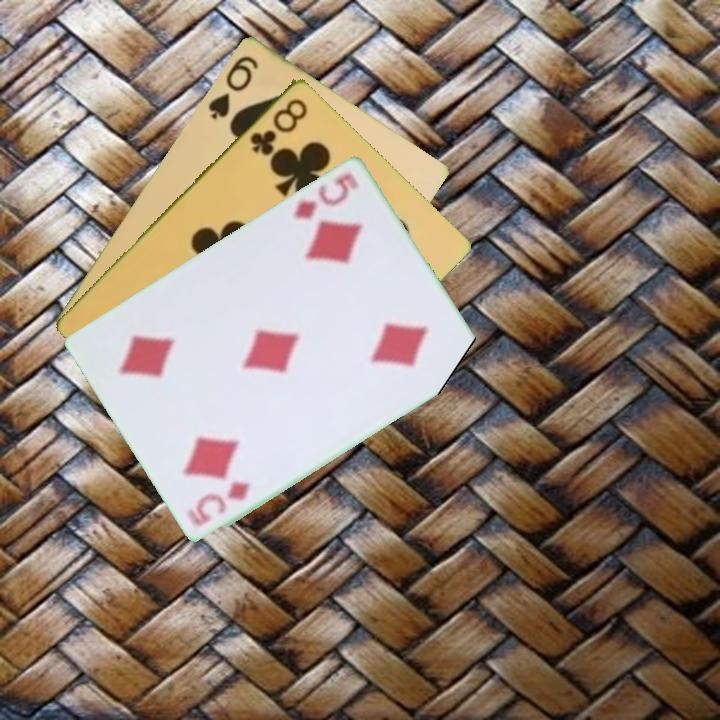5d: (290, 168, 363, 222), (182, 476, 254, 529)
6s: (204, 51, 261, 122)
8c: (246, 94, 310, 158)
